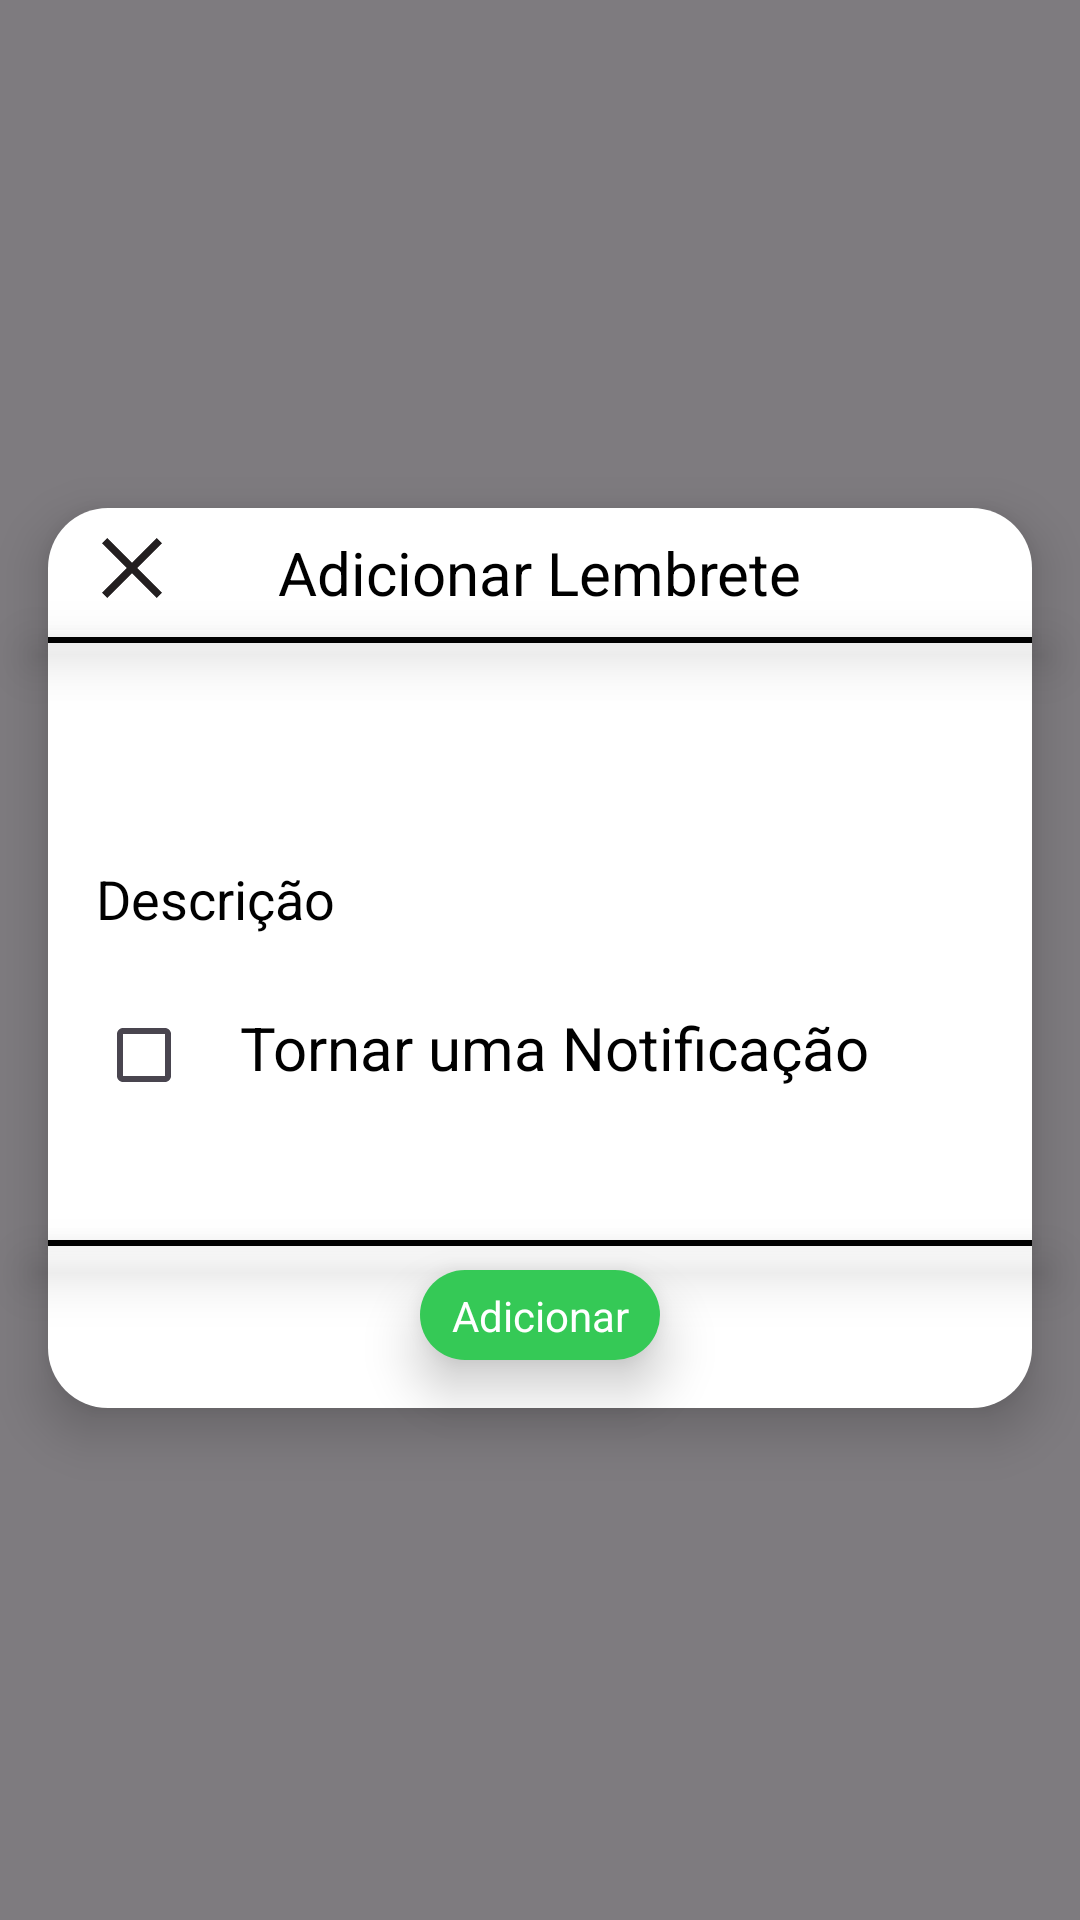

Named icons in this screenshot (1080*1920) and their bounding boxes, bbox=[x1, y1, x2, y2]:
close: bbox=[102, 538, 162, 598]
